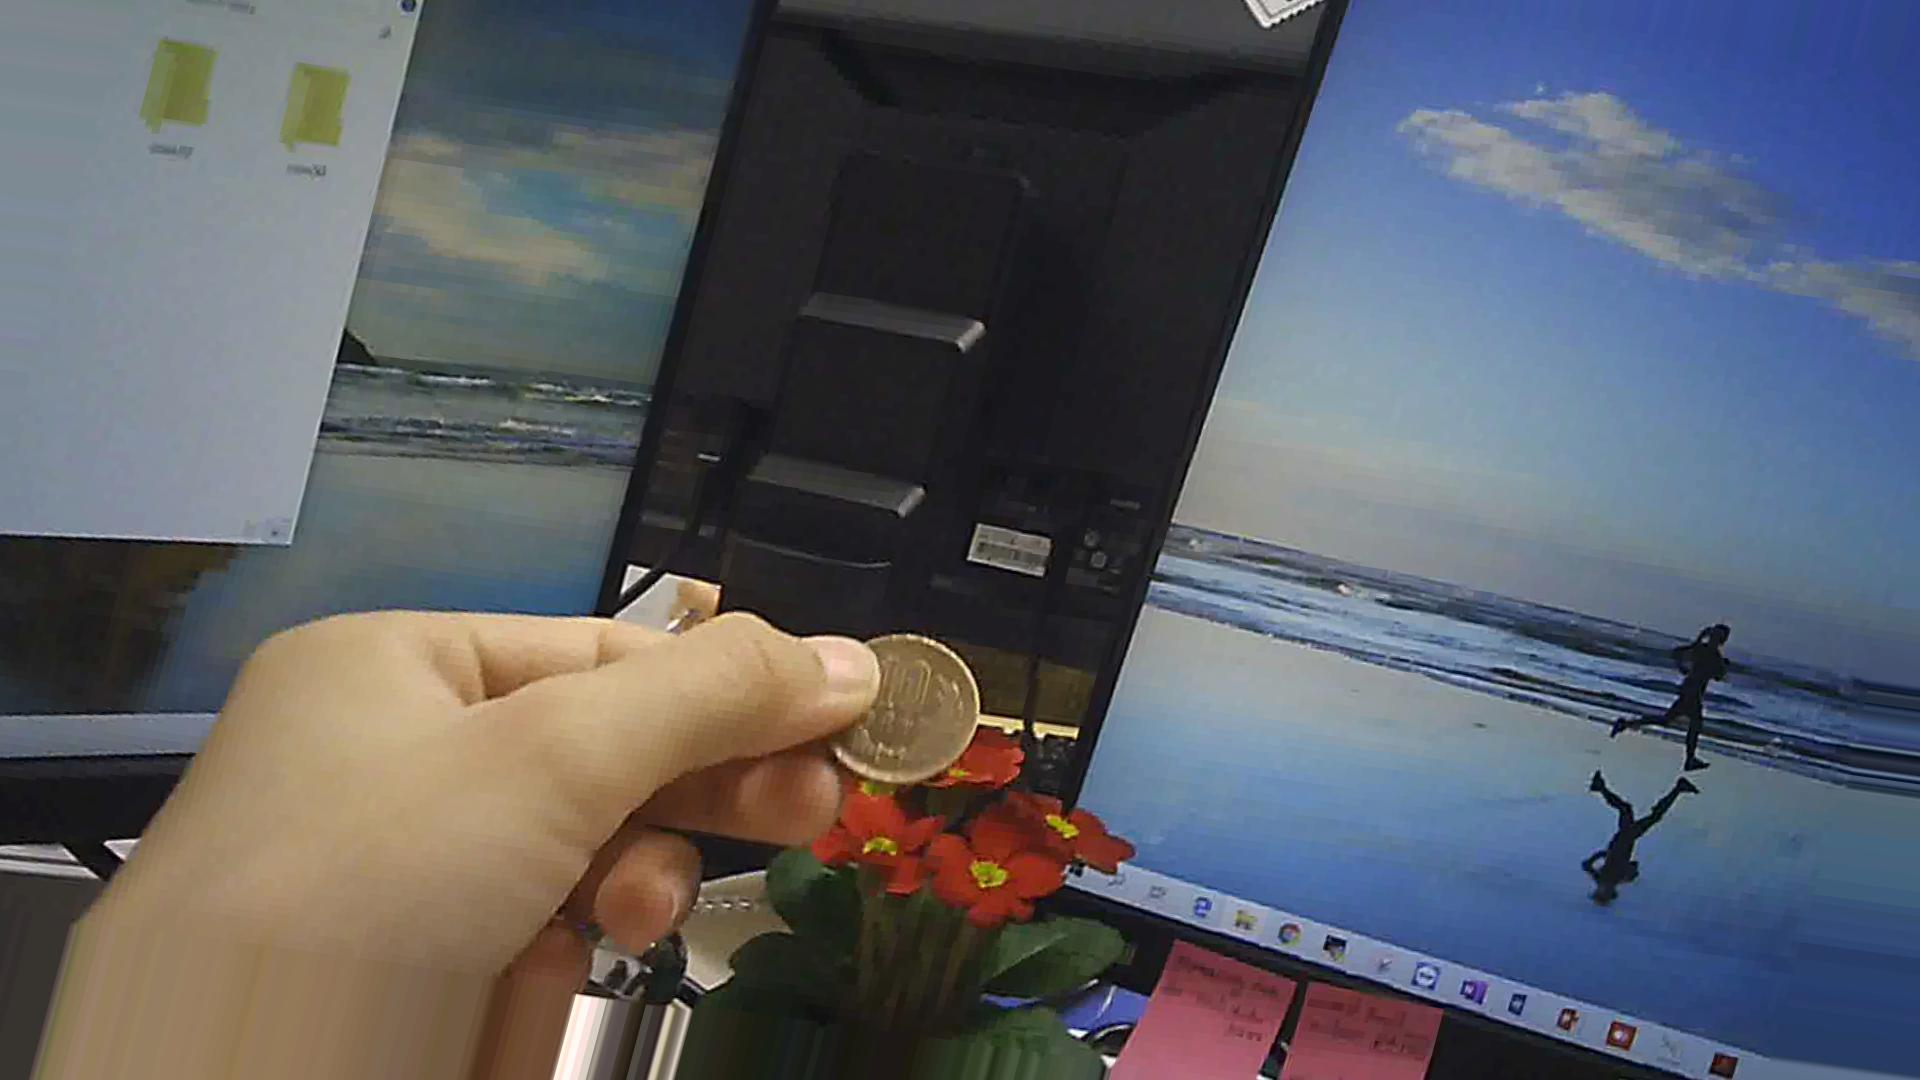10 Yen: (814, 625, 973, 789)
